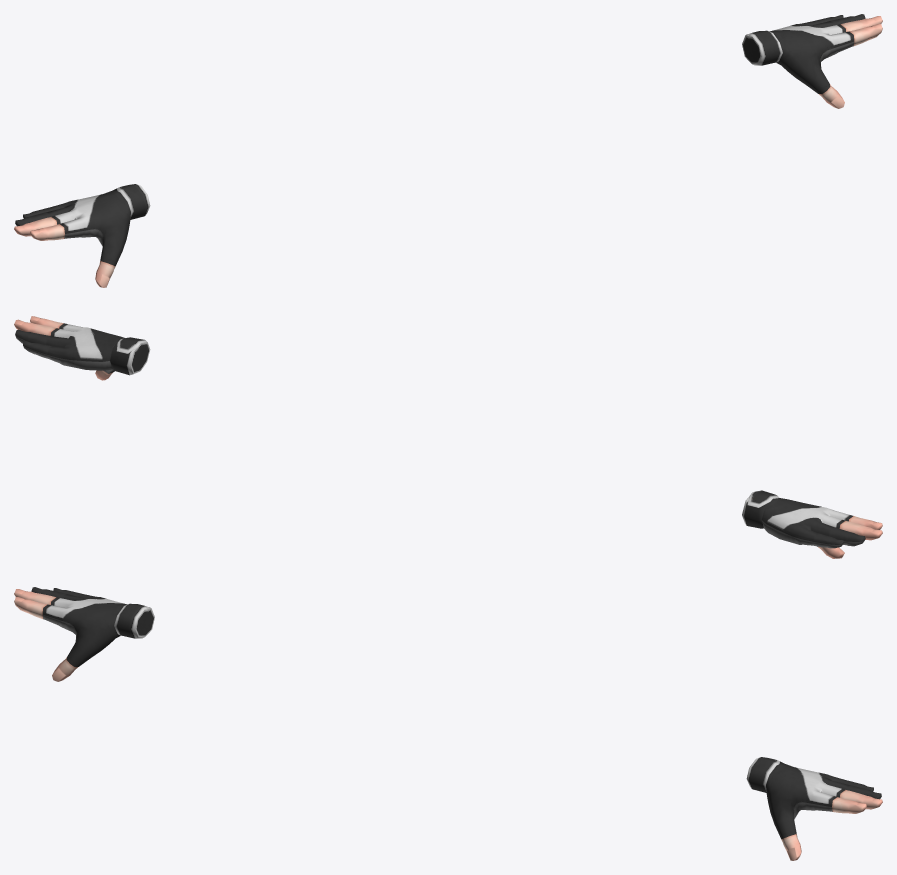
File: p0_glv1004_00_glv00.gltf
The picture shows the model from 3 angles, top to bottom: view 1: azimuth 30°, elevation 25°; view 2: azimuth 150°, elevation 25°; view 3: azimuth 330°, elevation 25°; orthographic projection.
Visible parts, largest first — view 1: glv00_glove_mesh_shape:glove, glv00_glove_mesh_shape:glove_skin; view 2: glv00_glove_mesh_shape:glove, glv00_glove_mesh_shape:glove_skin; view 3: glv00_glove_mesh_shape:glove, glv00_glove_mesh_shape:glove_skin.
Part boxes in pixels (x1,y1,x2,y2): glv00_glove_mesh_shape:glove: (15,14,865,266); glv00_glove_mesh_shape:glove_skin: (14,16,882,287); glv00_glove_mesh_shape:glove: (15,323,865,548); glv00_glove_mesh_shape:glove_skin: (14,316,882,558); glv00_glove_mesh_shape:glove: (31,587,881,839); glv00_glove_mesh_shape:glove_skin: (14,589,882,860).
Size of what is drawn, in the model's own units: 1.36 by 0.1053 by 0.1177.
Materials: 2 (2 with a texture image).
